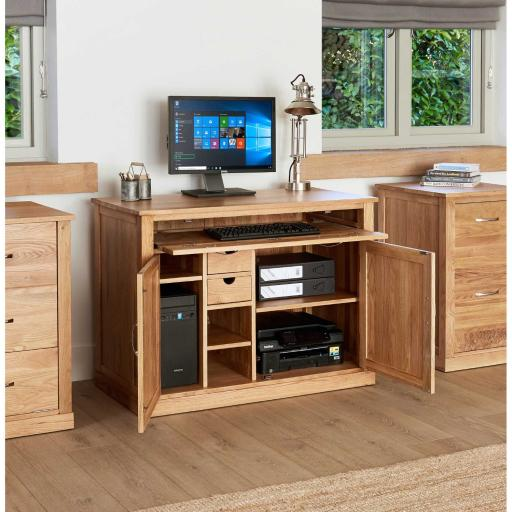desk: (91, 186, 435, 433)
wall: (20, 0, 506, 382)
